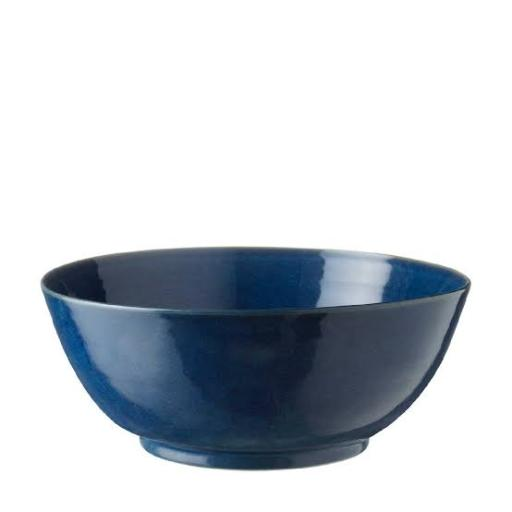Bowl: (42, 248, 469, 469)
